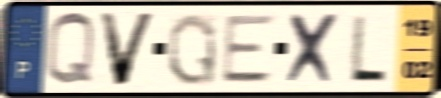E: (219, 13, 280, 86)
L: (345, 12, 390, 85)
Q: (43, 9, 98, 89), (166, 10, 219, 88)
V: (95, 10, 160, 89)
X: (283, 10, 344, 87)
